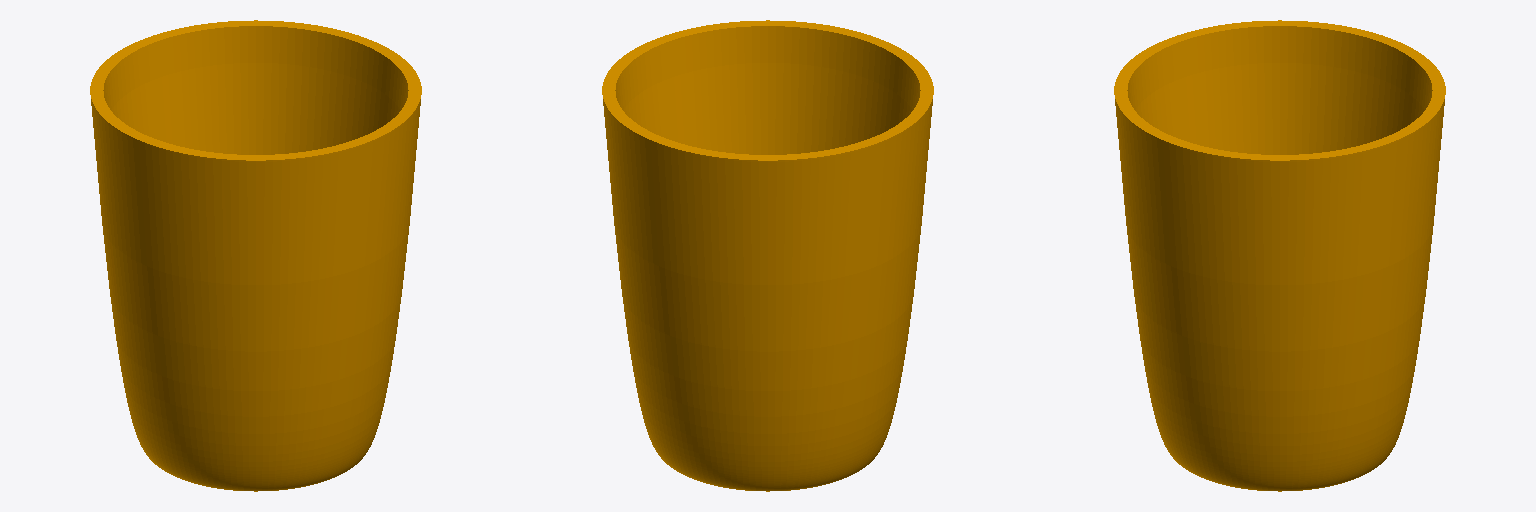
URDF robot description (object):
<?xml version="1.0"?>
<robot name="object">
  <link name="object">
    <visual>
      <origin xyz="0.0 0.0 0.0"/>
      <geometry>
        <mesh filename="cup.stl" scale="1.00 1.00 1.00"/>
      </geometry>
    </visual>
    <collision>
      <origin xyz="0.0 0.0 0.0"/>
      <geometry>
        <mesh filename="cup.stl" scale="1.00 1.00 1.00"/>
      </geometry>
    </collision>
  </link>
</robot>
    
                    

--- Facts derived from the render (not from the file) ---
3 views of the same robot in one strip: view 1: azimuth 30°, elevation 25°; view 2: azimuth 150°, elevation 25°; view 3: azimuth 270°, elevation 25° (orthographic).
Model object with 1 links and 0 joints (none), rooted at object, posed all joints at 0.
Links seen in each view (by area): view 1: object; view 2: object; view 3: object.
Link boxes in pixels (x1,y1,x2,y2): object: (90, 20, 421, 491); object: (602, 20, 933, 491); object: (1114, 20, 1445, 491).
Size in the robot's own frame: 0.0843 by 0.0843 by 0.0996 metres.
1 mesh visuals loaded from 1 distinct referenced files (1 binary STL).
